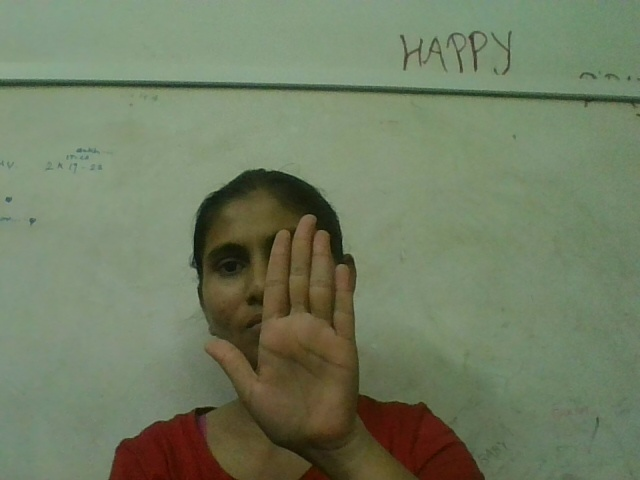Hello: (254, 213, 361, 451)
